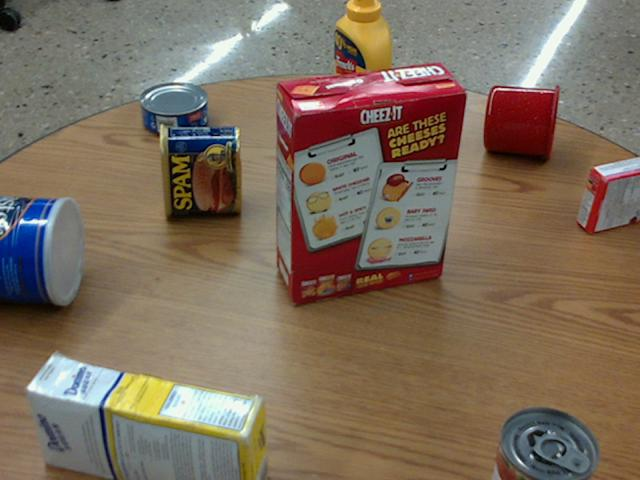cracker_box: (274, 61, 466, 302)
gelatin_box: (578, 158, 639, 234)
master_chef_can: (0, 195, 85, 303)
mug: (484, 83, 558, 159)
mustard_bottle: (332, 0, 390, 146)
potted_meat_can: (159, 122, 240, 215)
sugar_box: (22, 355, 266, 479)
tomato_soup_can: (492, 405, 598, 479)
tuna_fish_can: (140, 80, 208, 135)
